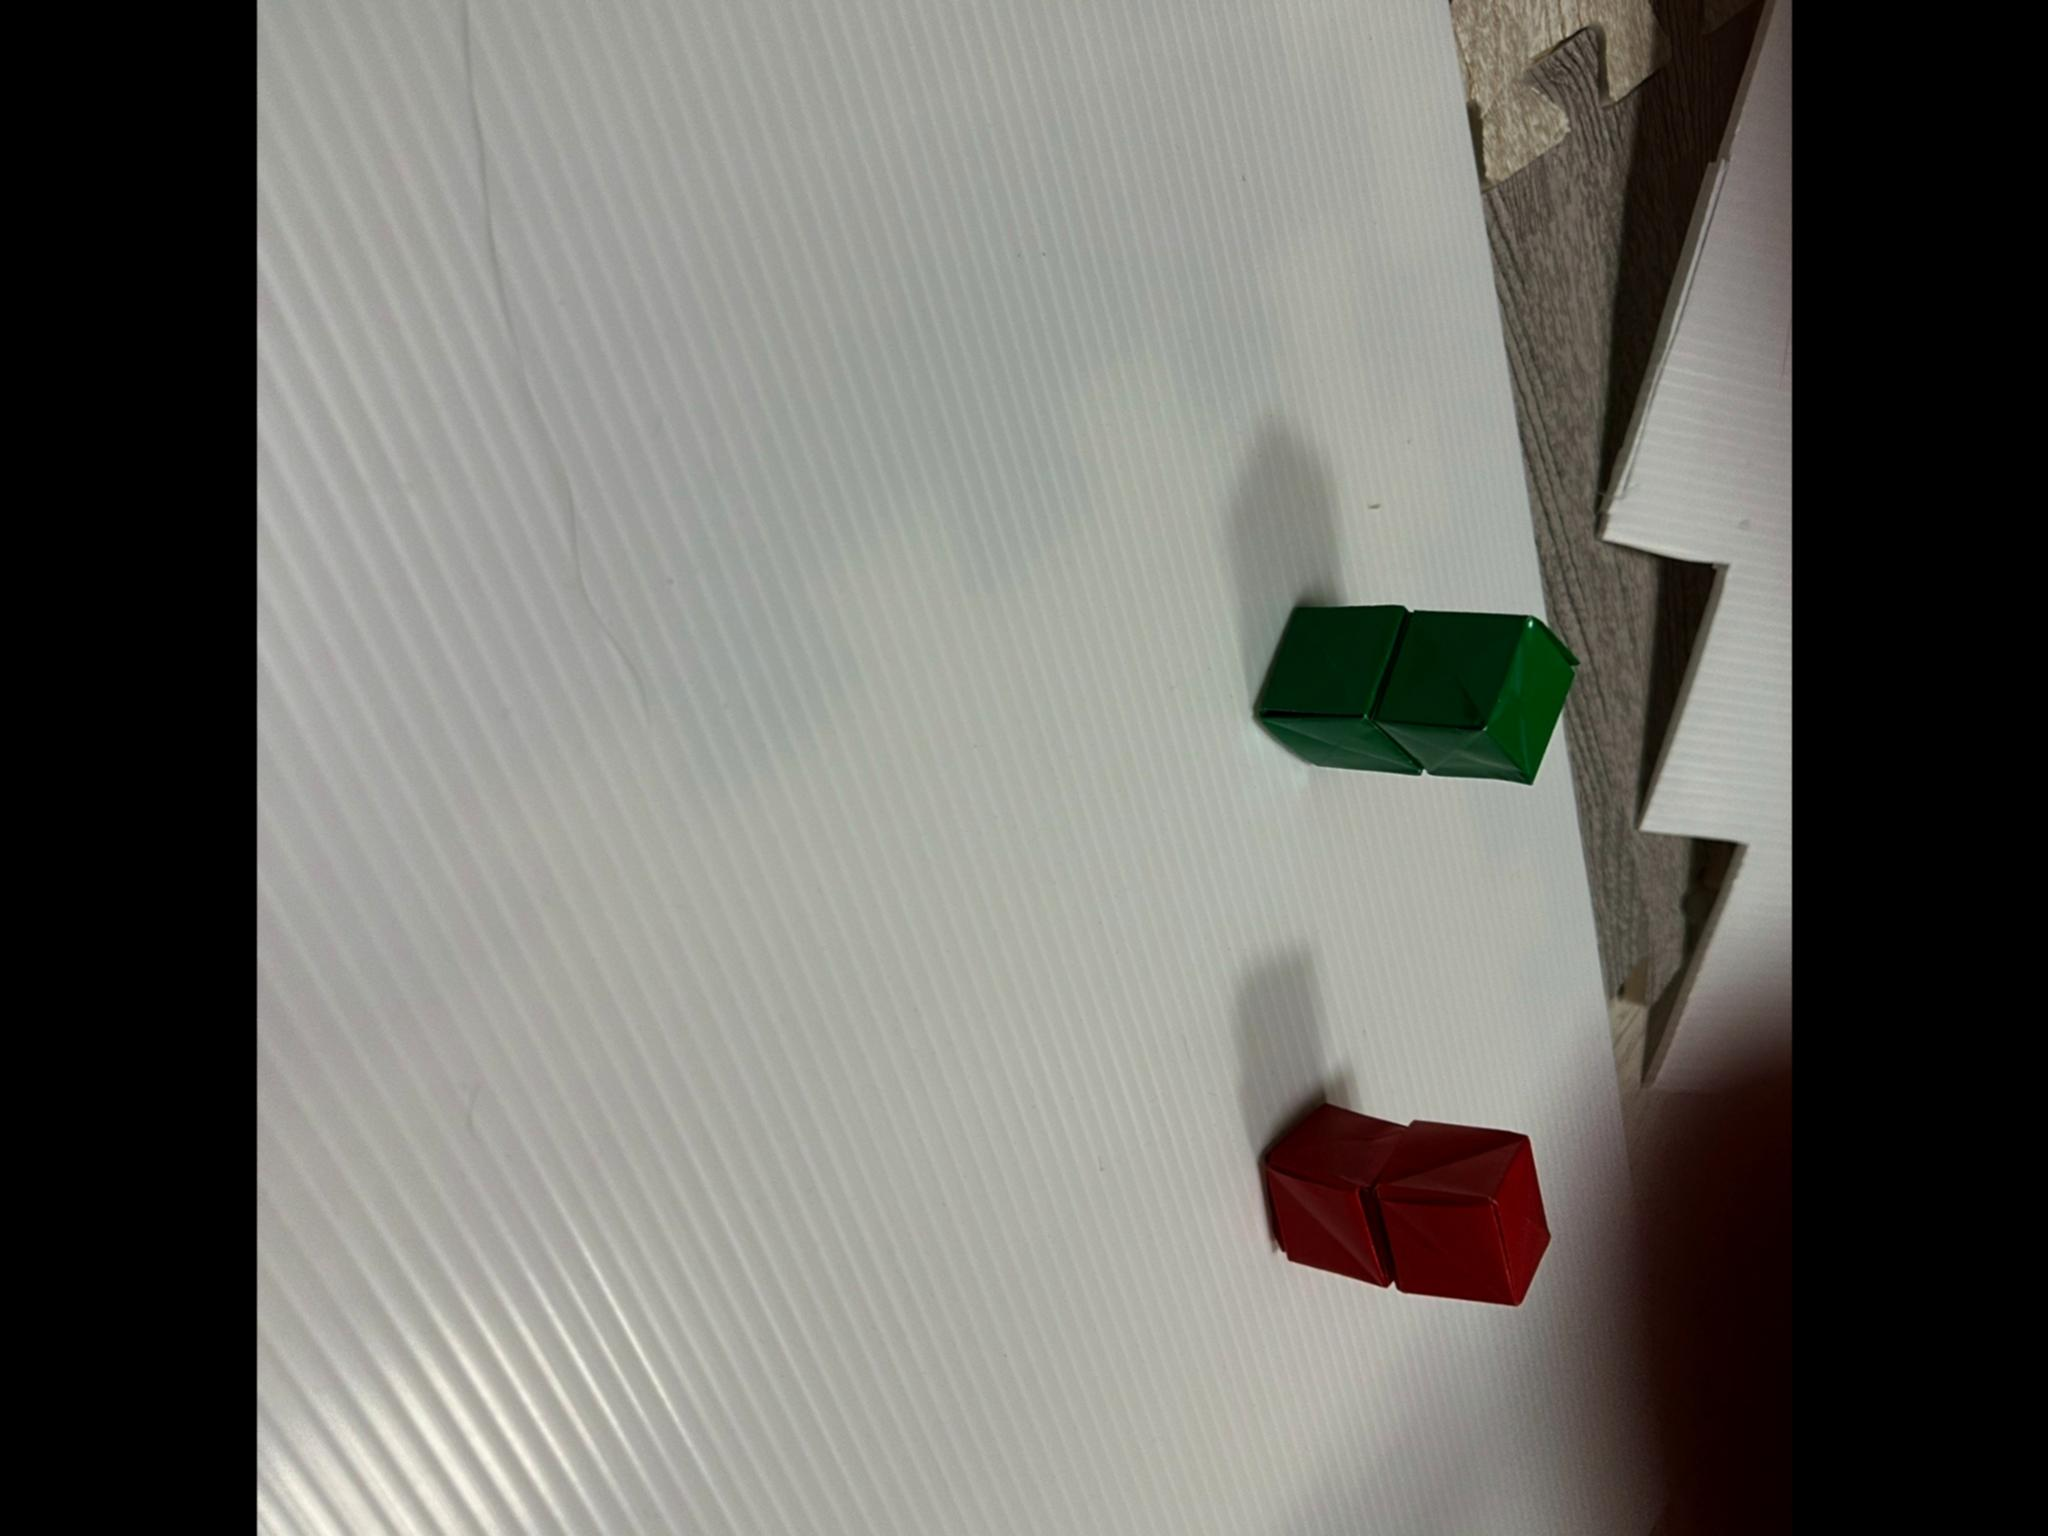cube: (1376, 611, 1577, 784), (1374, 1121, 1548, 1304), (1258, 607, 1421, 774), (1264, 1105, 1408, 1286)
